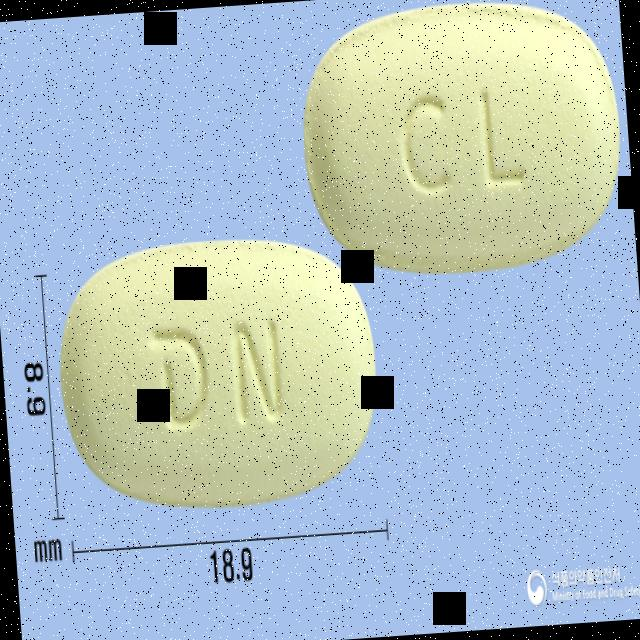Clamacin: (49, 220, 388, 527), (291, 0, 633, 296)
